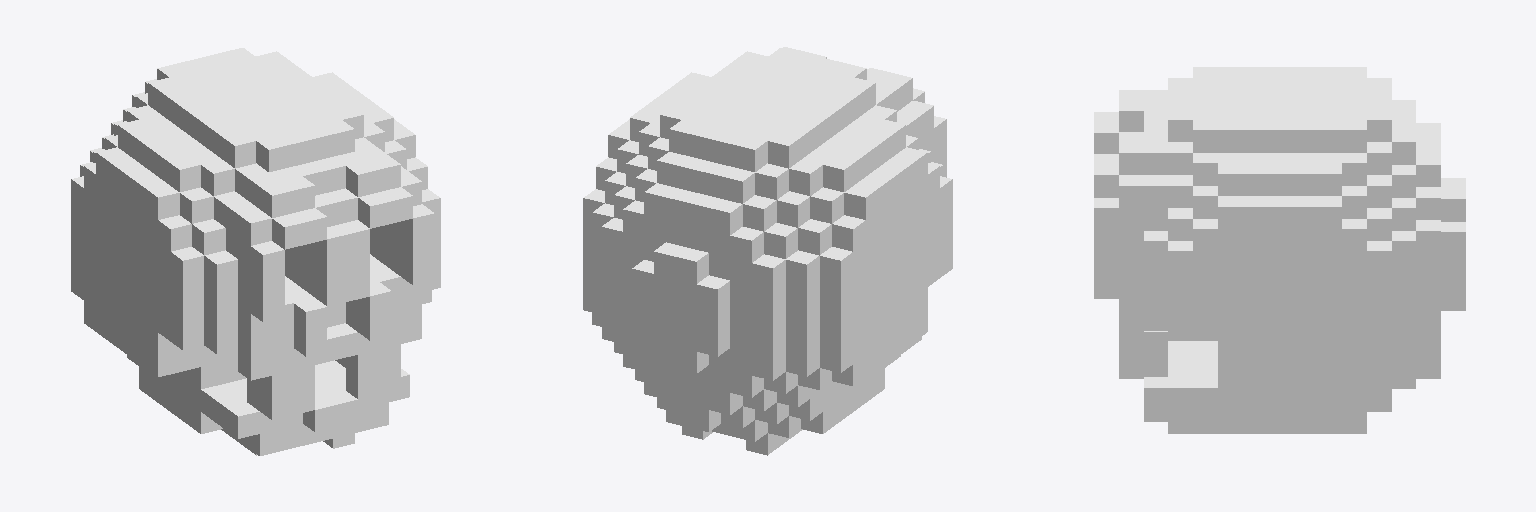
File: BoneHead.obj
3 views of the same model, side by side, from view 1: azimuth 30°, elevation 25°; view 2: azimuth 150°, elevation 25°; view 3: azimuth 270°, elevation 25° (orthographic).
Parts seen in each view (by area): view 1: object 1; view 2: object 1; view 3: object 1.
Part boxes in pixels (x1,y1,x2,y2): object 1: (71,48,440,455); object 1: (583,47,952,455); object 1: (1094,67,1465,433).
Bounding box in the file's own units: 1.2 × 1.4 × 1.5.